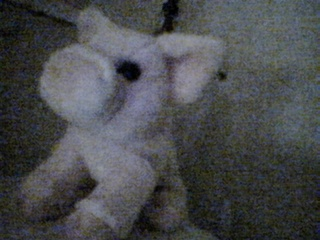piggy: (18, 3, 227, 237)
